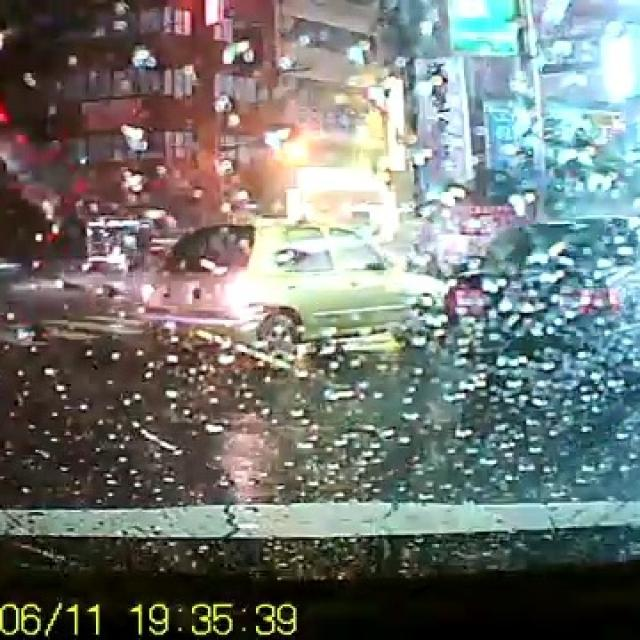Car: (138, 213, 444, 369), (432, 211, 638, 366)
